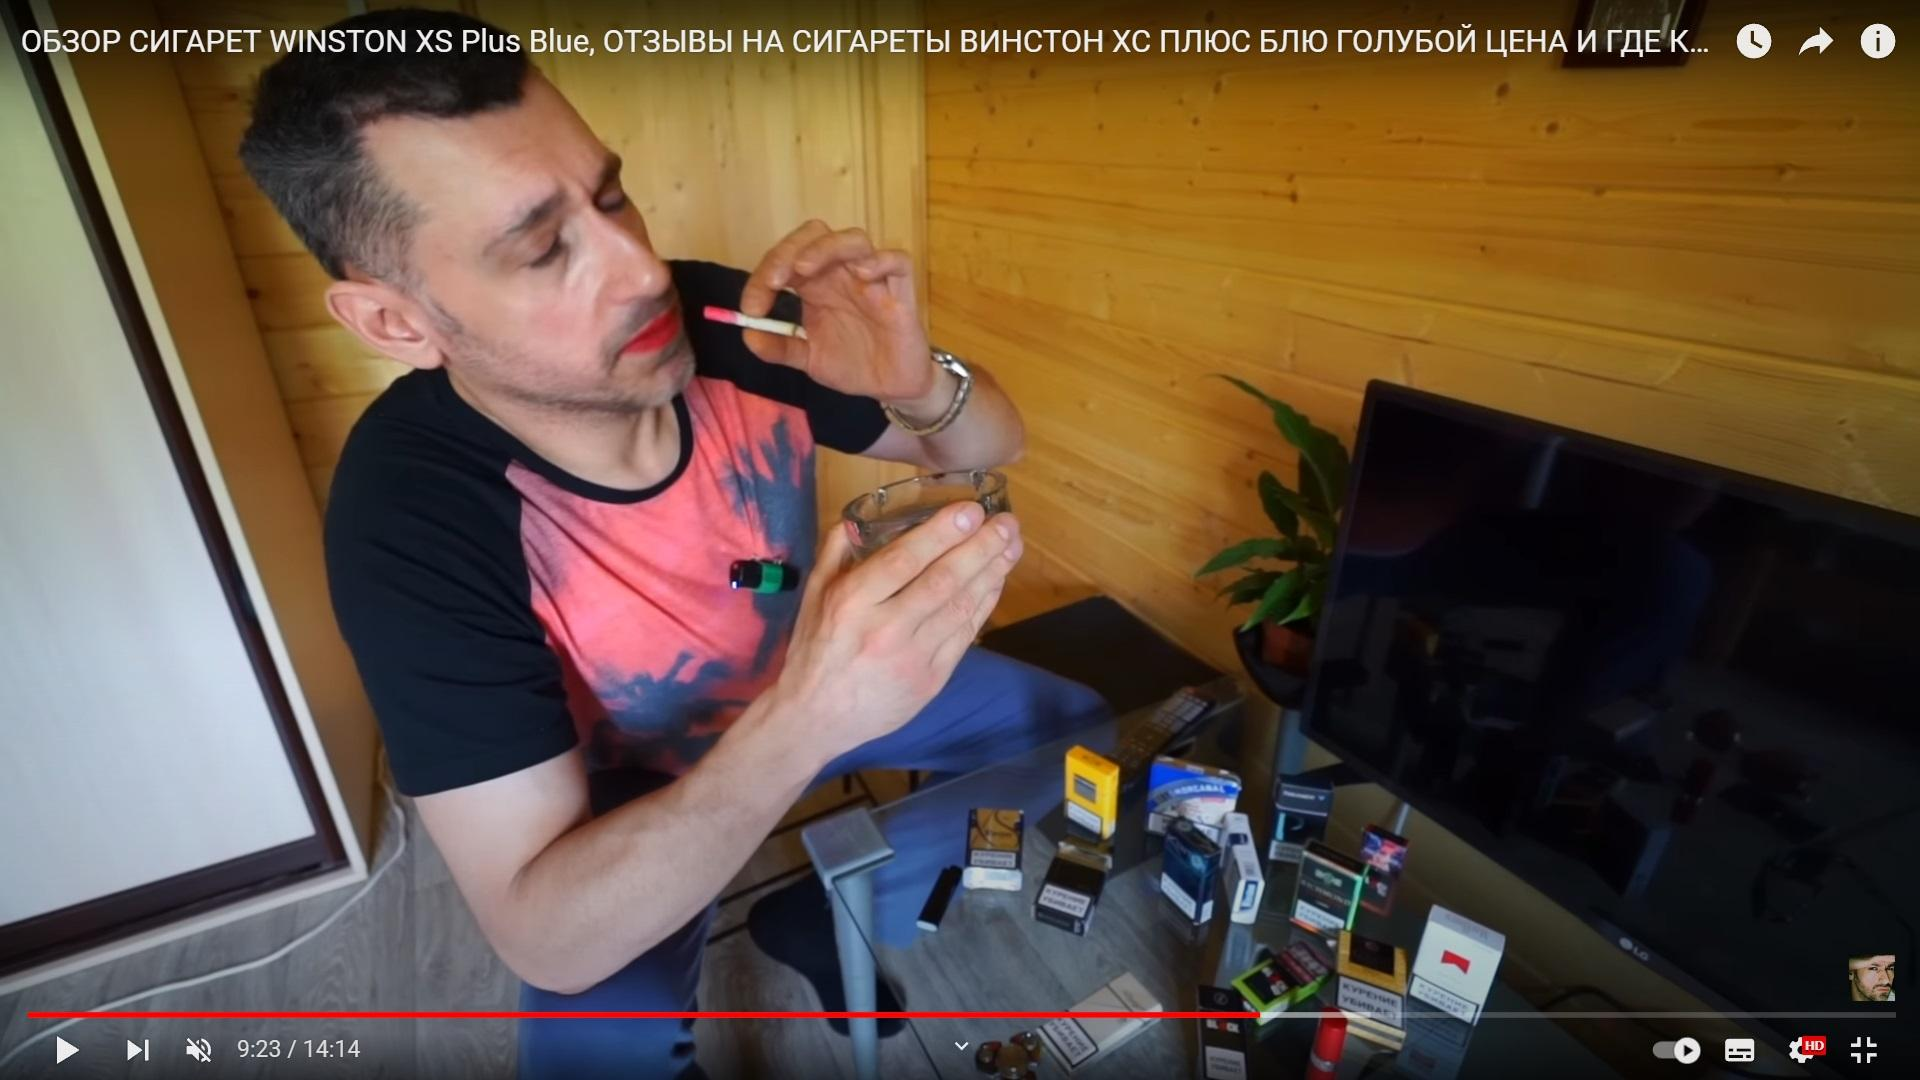cigarette: (703, 305, 808, 340)
